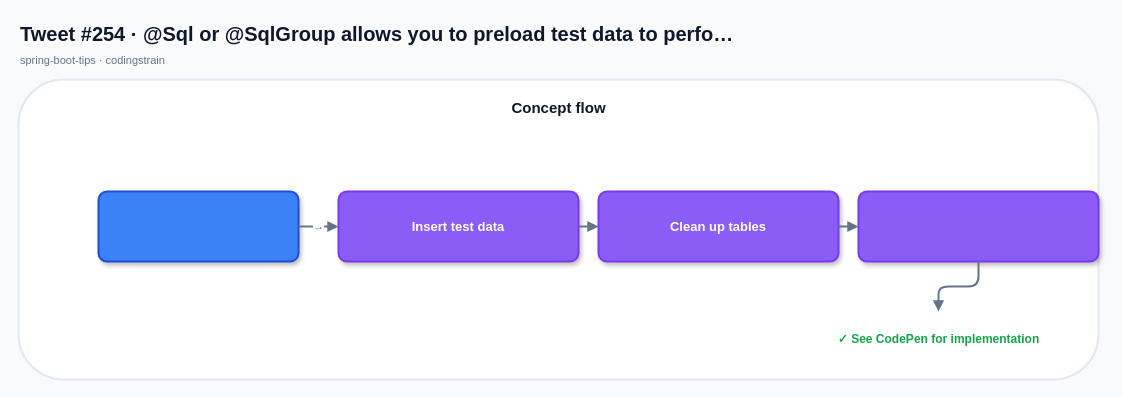
Some shapes in this 1122 by 397 pixel diagram are drawn without their labels. Here are the shapes that lost their labels. From the top down, the centre of each, then its label:
At point (199, 227): "Problem / context".
At point (979, 227): "Reset database state".
